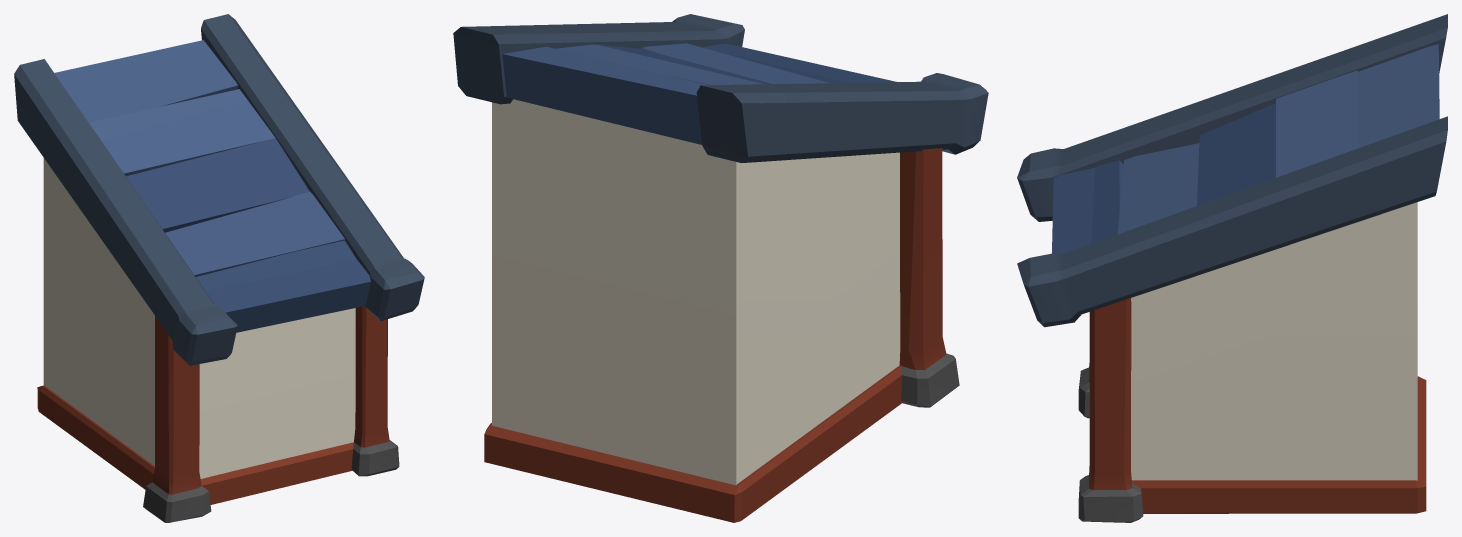
The model's file is House_1Floor_Side_P.fbx.
The picture shows the model from 3 angles, left to right: view 1: azimuth 30°, elevation 25°; view 2: azimuth 150°, elevation 25°; view 3: azimuth 270°, elevation 25°; orthographic projection. The views are drawn at different scales.
Parts seen in each view (by area): view 1: House_1Floor_Side_P; view 2: House_1Floor_Side_P; view 3: House_1Floor_Side_P.
Boxes of the visible parts, left/top/right/bottom form: House_1Floor_Side_P: left=14, top=14, right=424, bottom=522; House_1Floor_Side_P: left=453, top=14, right=988, bottom=522; House_1Floor_Side_P: left=1017, top=14, right=1447, bottom=522.
Size of the model in its own units: 217 by 300 by 302.
